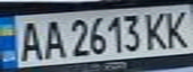1: (106, 14, 127, 54)
2: (66, 16, 90, 58)
3: (121, 11, 145, 53)
6: (87, 14, 109, 56)
A: (12, 18, 45, 62), (39, 17, 66, 61)
K: (160, 7, 193, 50), (142, 9, 172, 51)
